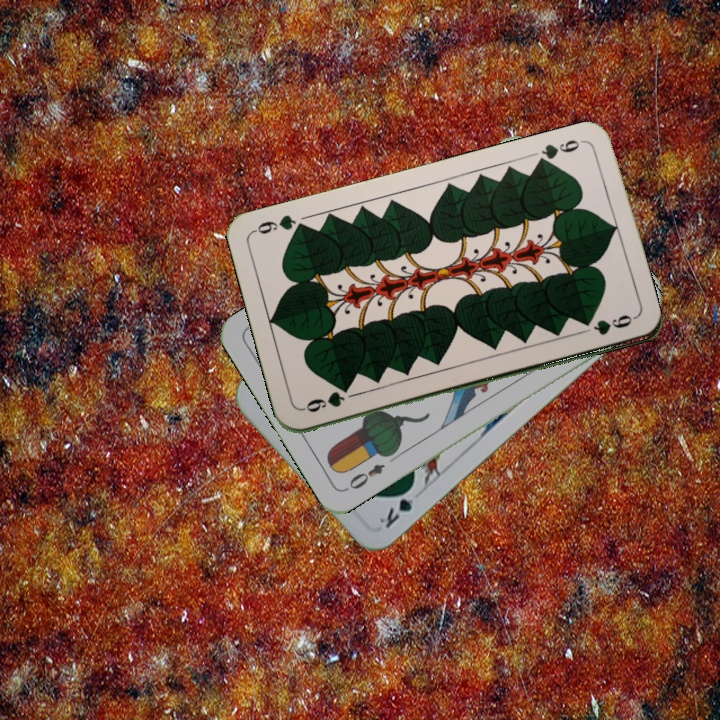EO: (341, 459, 388, 494)
G9: (533, 135, 588, 168), (298, 387, 348, 415)
GK: (374, 481, 419, 531)
